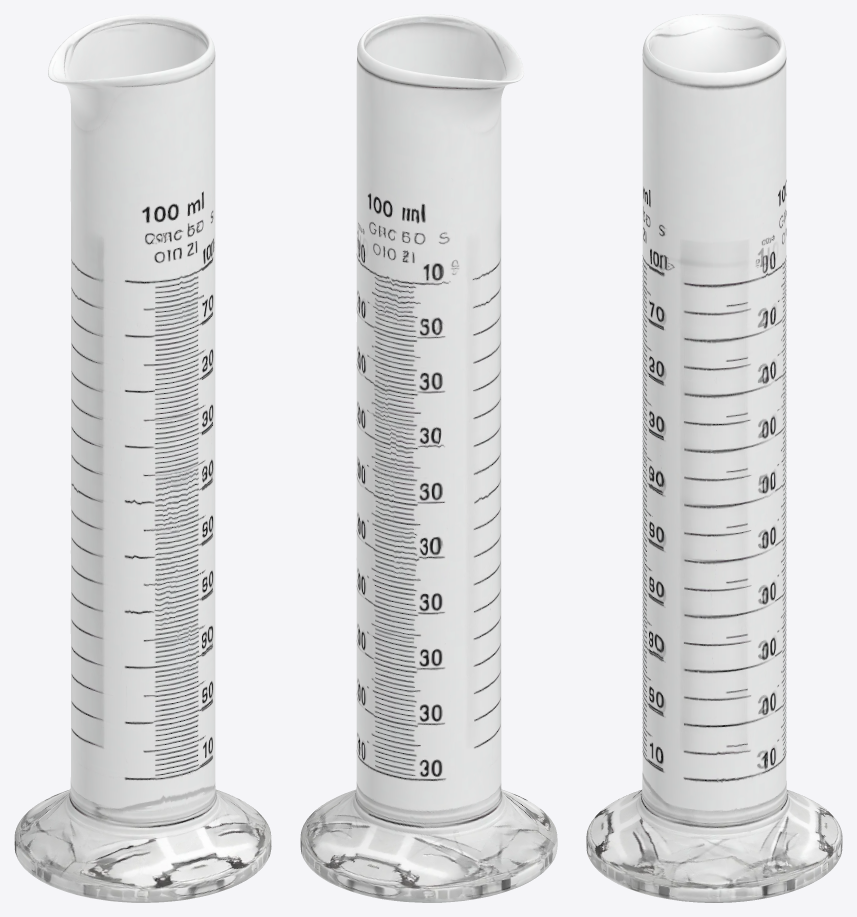
Rendered from probeta10M.glb.
The picture shows the model from 3 angles, left to right: view 1: azimuth 30°, elevation 25°; view 2: azimuth 150°, elevation 25°; view 3: azimuth 270°, elevation 25°; orthographic projection.
Visible parts, largest first — view 1: Mesh_0.002; view 2: Mesh_0.002; view 3: Mesh_0.002.
Boxes of the visible parts, x1,y1,x2,y2 form: Mesh_0.002: (14, 14, 271, 902); Mesh_0.002: (300, 14, 557, 902); Mesh_0.002: (586, 14, 842, 902).
Size of the model in its own units: 2.87 by 10 by 2.87.
Materials: 1 (1 with a texture image).
